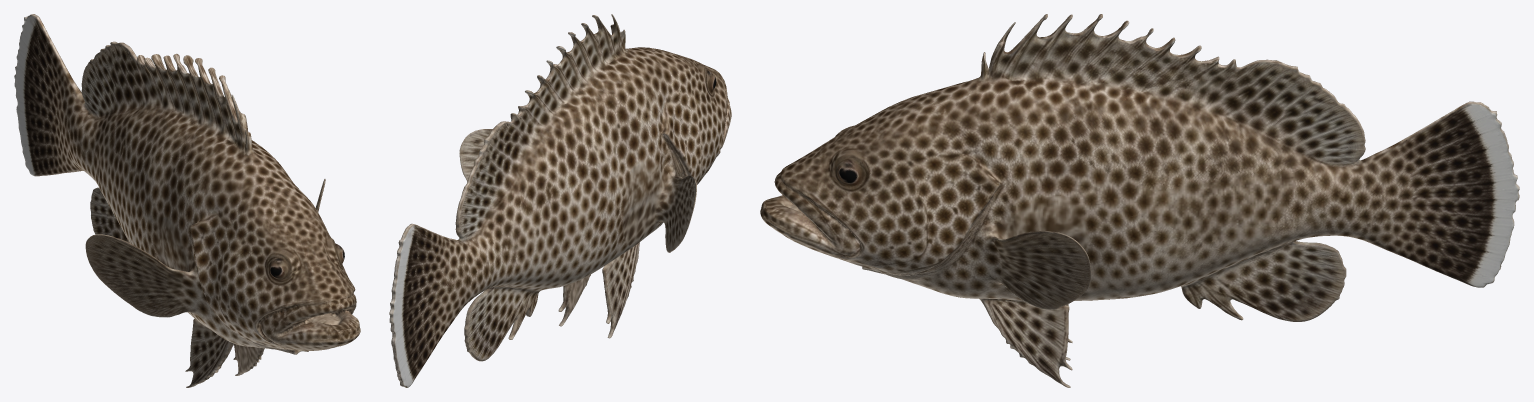
The model's file is oomonhata.glb.
3 renders of one model, left to right at view 1: azimuth 30°, elevation 25°; view 2: azimuth 150°, elevation 25°; view 3: azimuth 270°, elevation 25°, orthographic. The views are drawn at different scales.
Size of the model in its own units: 0.7841 by 0.9906 by 1.9.
1 material, 1 textured.
